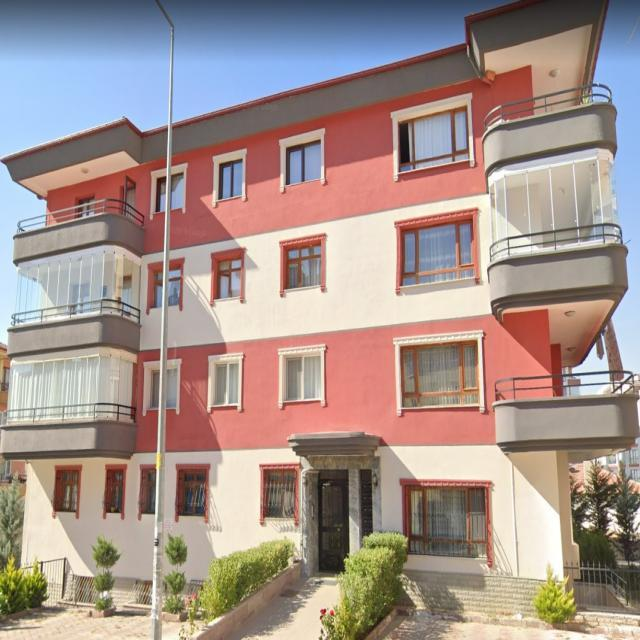Building: (1, 0, 635, 598)
